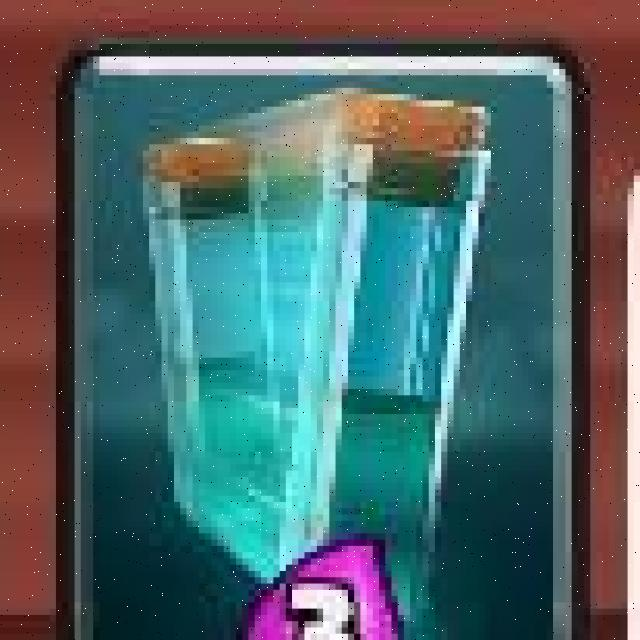Clone_Spell: (51, 30, 594, 640)
